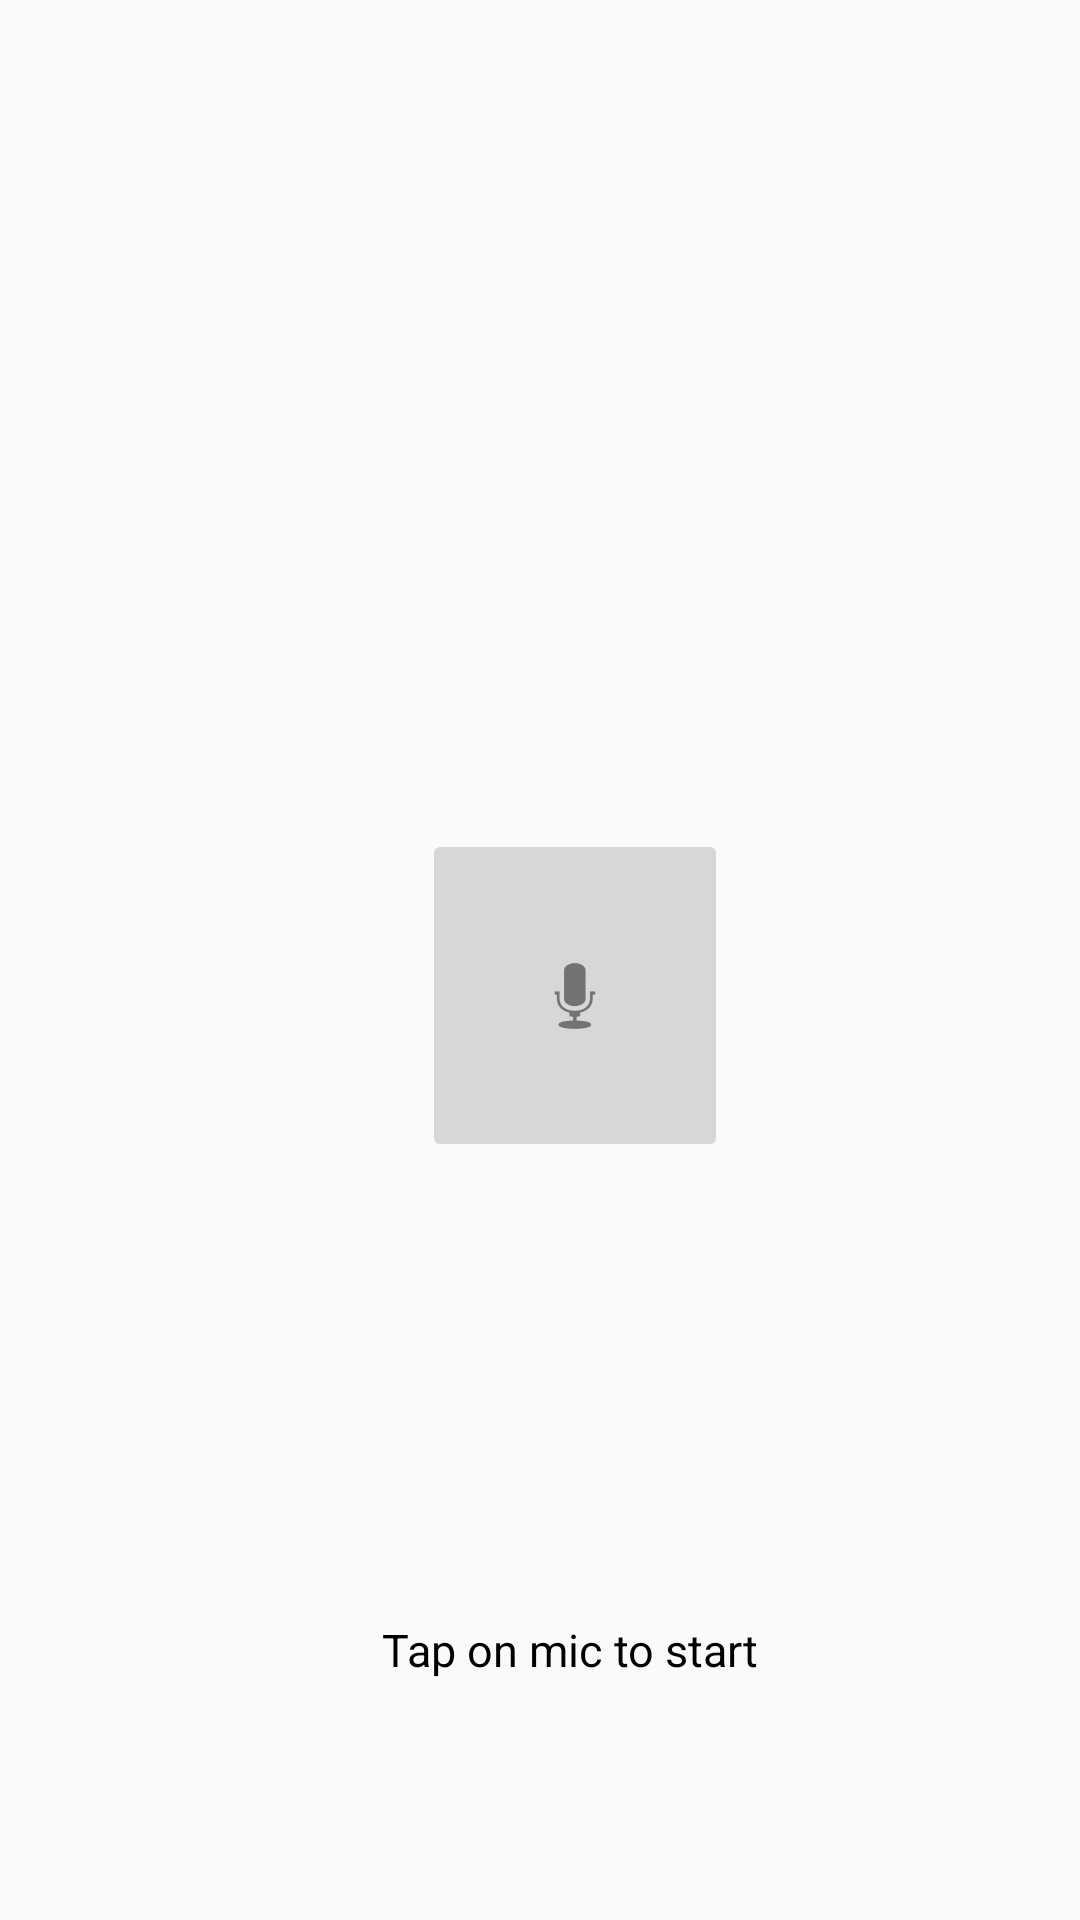

Icon bounding boxes for this 1080 x 1920 phone screenshot, format region(x1, y1, x2, y2):
speak now: region(434, 847, 716, 1144)
